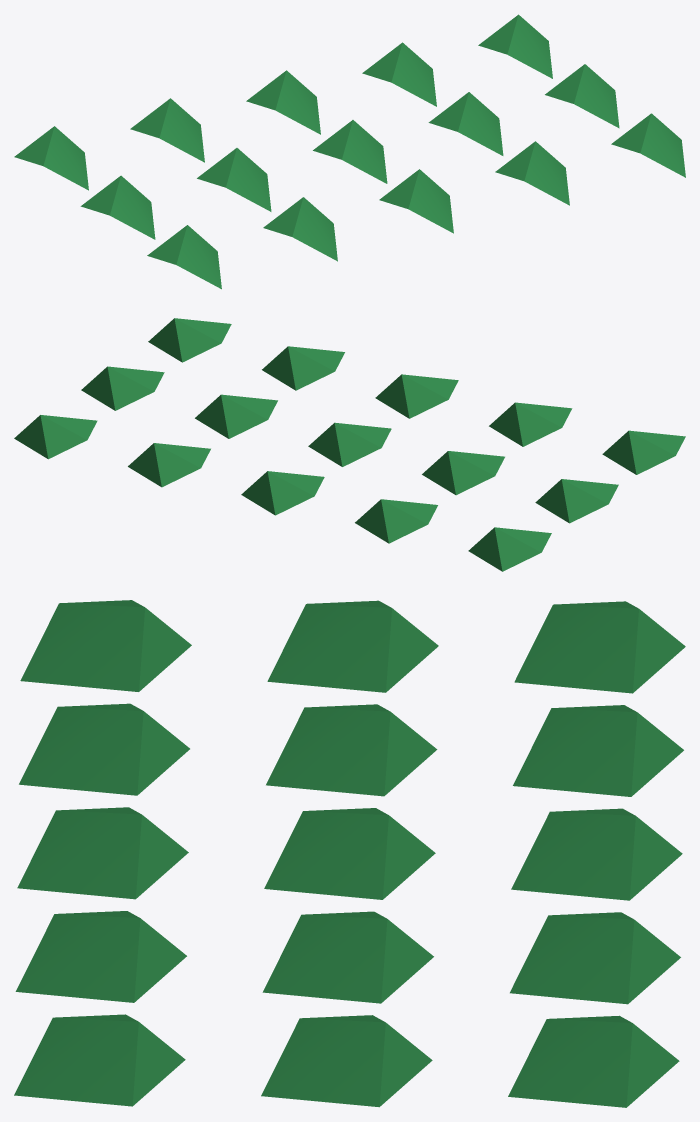
Rendered from 018_すだち001.glb.
The picture shows the model from 3 angles, top to bottom: view 1: azimuth 30°, elevation 25°; view 2: azimuth 150°, elevation 25°; view 3: azimuth 270°, elevation 25°; orthographic projection. The views are drawn at different scales.
Visible parts, largest first — view 1: すだち001; view 2: すだち001; view 3: すだち001.
Part boxes in pixels (x1,y1,x2,y2): すだち001: (14, 14, 685, 289); すだち001: (14, 318, 685, 571); すだち001: (14, 600, 685, 1107).
Bounding box in the file's own units: 0.9075 × 0.0645 × 0.5359.
